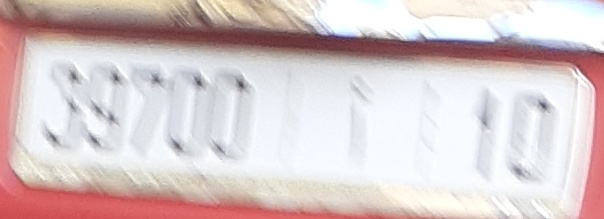0: (502, 86, 559, 179), (163, 63, 206, 160), (208, 72, 249, 163)
1: (459, 84, 501, 180)
3: (43, 56, 79, 151)
7: (128, 63, 166, 154)
9: (87, 57, 125, 154)
a: (335, 73, 372, 165)
